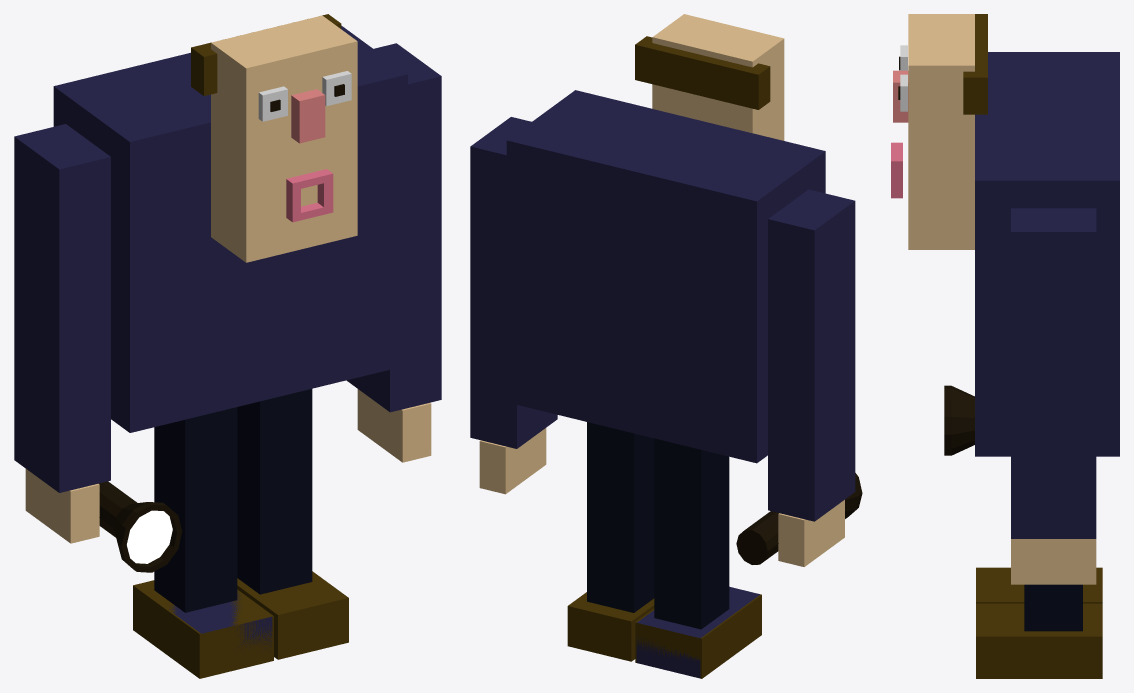
Rendered from Project1.glb.
The picture shows the model from 3 angles, left to right: view 1: azimuth 30°, elevation 25°; view 2: azimuth 150°, elevation 25°; view 3: azimuth 270°, elevation 25°; orthographic projection. The views are drawn at different scales.
Parts seen in each view (by area): view 1: Cube, Cube.005, Cube.001, Cube.003, Cube.002, Cube.004, Cube.008, Cube.010, Cylinder, Cube.006, Cube.007, Cube.009 (+5 smaller); view 2: Cube, Cube.005, Cube.002, Cube.004, Cube.003, Cube.001, Cube.015, Cube.008, Cube.010, Cube.007, Cube.006, Cube.009 (+1 smaller); view 3: Cube, Cube.004, Cube.001, Cube.010, Cube.007, Cube.003, Cube.008, Cylinder, Cube.015, Cube.014, Cube.011.
Boxes of the visible parts, box(x1,y1,x2,y2) form: Cube: box(53, 25, 407, 432); Cube.005: box(14, 124, 110, 492); Cube.001: box(211, 15, 357, 262); Cube.003: box(237, 389, 312, 594); Cube.002: box(154, 407, 237, 612); Cube.004: box(346, 43, 441, 412); Cube.008: box(133, 580, 273, 678); Cube.010: box(237, 571, 348, 659); Cylinder: box(99, 481, 182, 572); Cube.006: box(25, 469, 99, 543); Cube.007: box(357, 389, 431, 462); Cube.009: box(169, 591, 272, 653); Cube: box(506, 90, 825, 463); Cube.005: box(768, 189, 855, 521); Cube.002: box(654, 438, 729, 629); Cube.004: box(470, 117, 557, 448); Cube.003: box(587, 422, 654, 612); Cube.001: box(652, 14, 784, 140); Cube.015: box(635, 36, 770, 109); Cube.008: box(635, 594, 761, 678); Cube.010: box(567, 592, 654, 661); Cube.007: box(479, 428, 546, 494); Cube.006: box(778, 500, 844, 566); Cube.009: box(636, 586, 759, 678); Cube: box(975, 52, 1119, 456); Cube.004: box(1011, 208, 1096, 538); Cube.001: box(908, 14, 974, 249); Cube.010: box(976, 603, 1102, 678); Cube.007: box(1011, 539, 1096, 584); Cube.003: box(1024, 584, 1082, 631); Cube.008: box(976, 567, 1102, 603); Cylinder: box(944, 385, 974, 455); Cube.015: box(963, 14, 987, 114); Cube.014: box(891, 142, 902, 198); Cube.011: box(893, 70, 908, 122).
Size of the model in its own units: 2.75 by 4.36 by 1.5.
